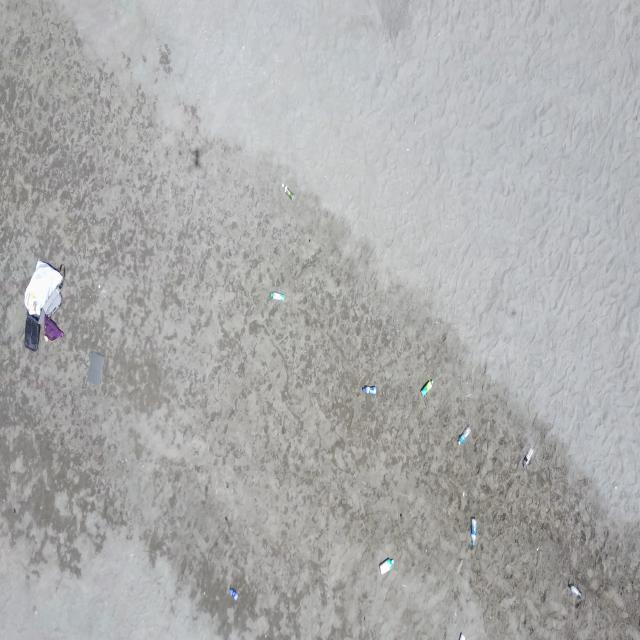plastic-bottle: (456, 424, 472, 446), (380, 556, 396, 575), (420, 379, 434, 398), (281, 183, 295, 201), (470, 517, 478, 548), (524, 446, 534, 469), (569, 584, 582, 600), (361, 384, 377, 396), (270, 290, 285, 302), (229, 587, 239, 601), (459, 632, 467, 640)
